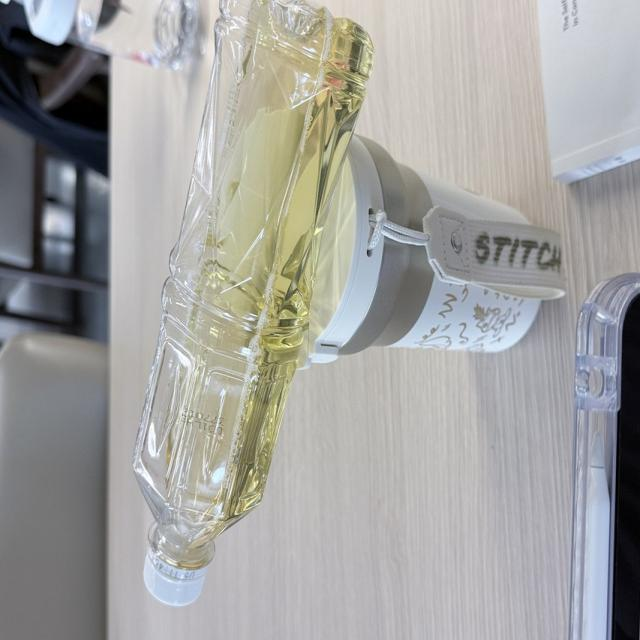medium: (134, 2, 372, 602)
